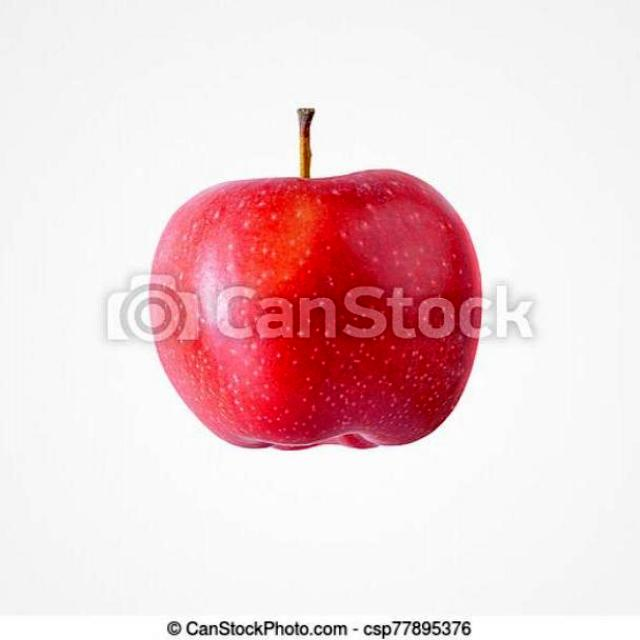HEALTHY: (136, 157, 497, 468)
